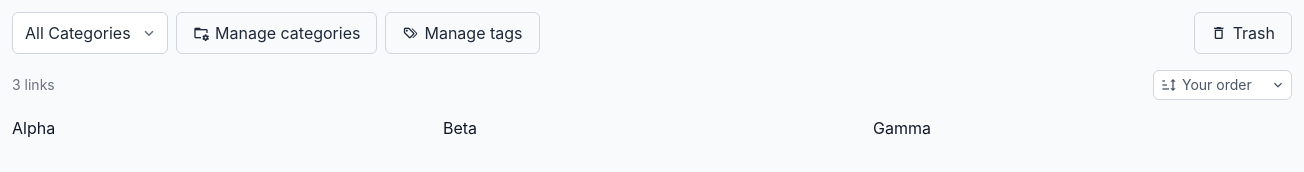
Test case: EditLinksView › counts the shelf, and what the filters show of it
Check: the text with test id "link-count" reads "3 links", box [12, 76, 55, 93]
Select "Work" in the dropdown named "Category" at [90, 33], box [12, 12, 168, 54]
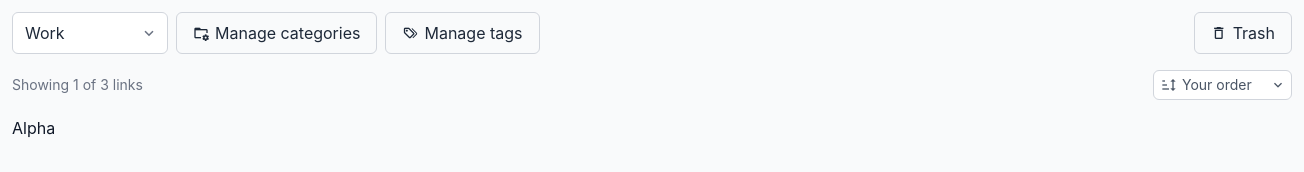
Check: the elements with class "link-card" read "Alpha", in this order, box [12, 118, 55, 138]
Check: the text with test id "link-count" reads "Showing 1 of 3 links", box [12, 76, 143, 93]
